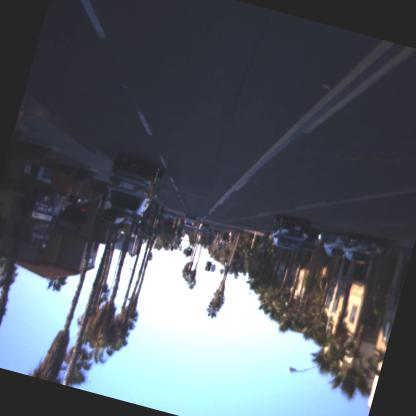trafficlight: (132, 218, 141, 235), (185, 245, 192, 257), (168, 241, 174, 253)
